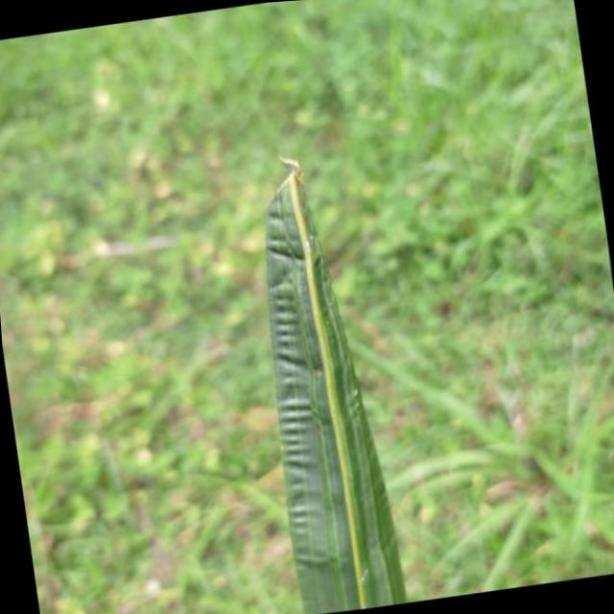Boron: (260, 148, 412, 614)
